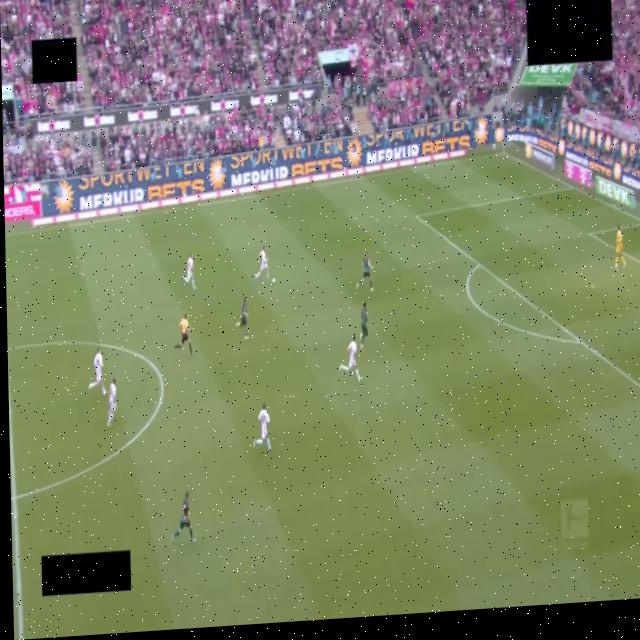ball: (272, 278, 275, 283)
player: (172, 492, 195, 541), (340, 336, 362, 381), (253, 404, 271, 452), (89, 348, 106, 395), (357, 253, 373, 292), (182, 253, 196, 290), (236, 297, 248, 339), (615, 224, 626, 268), (255, 247, 269, 278), (107, 378, 116, 426), (360, 302, 368, 348)
referee: (175, 314, 193, 355)
